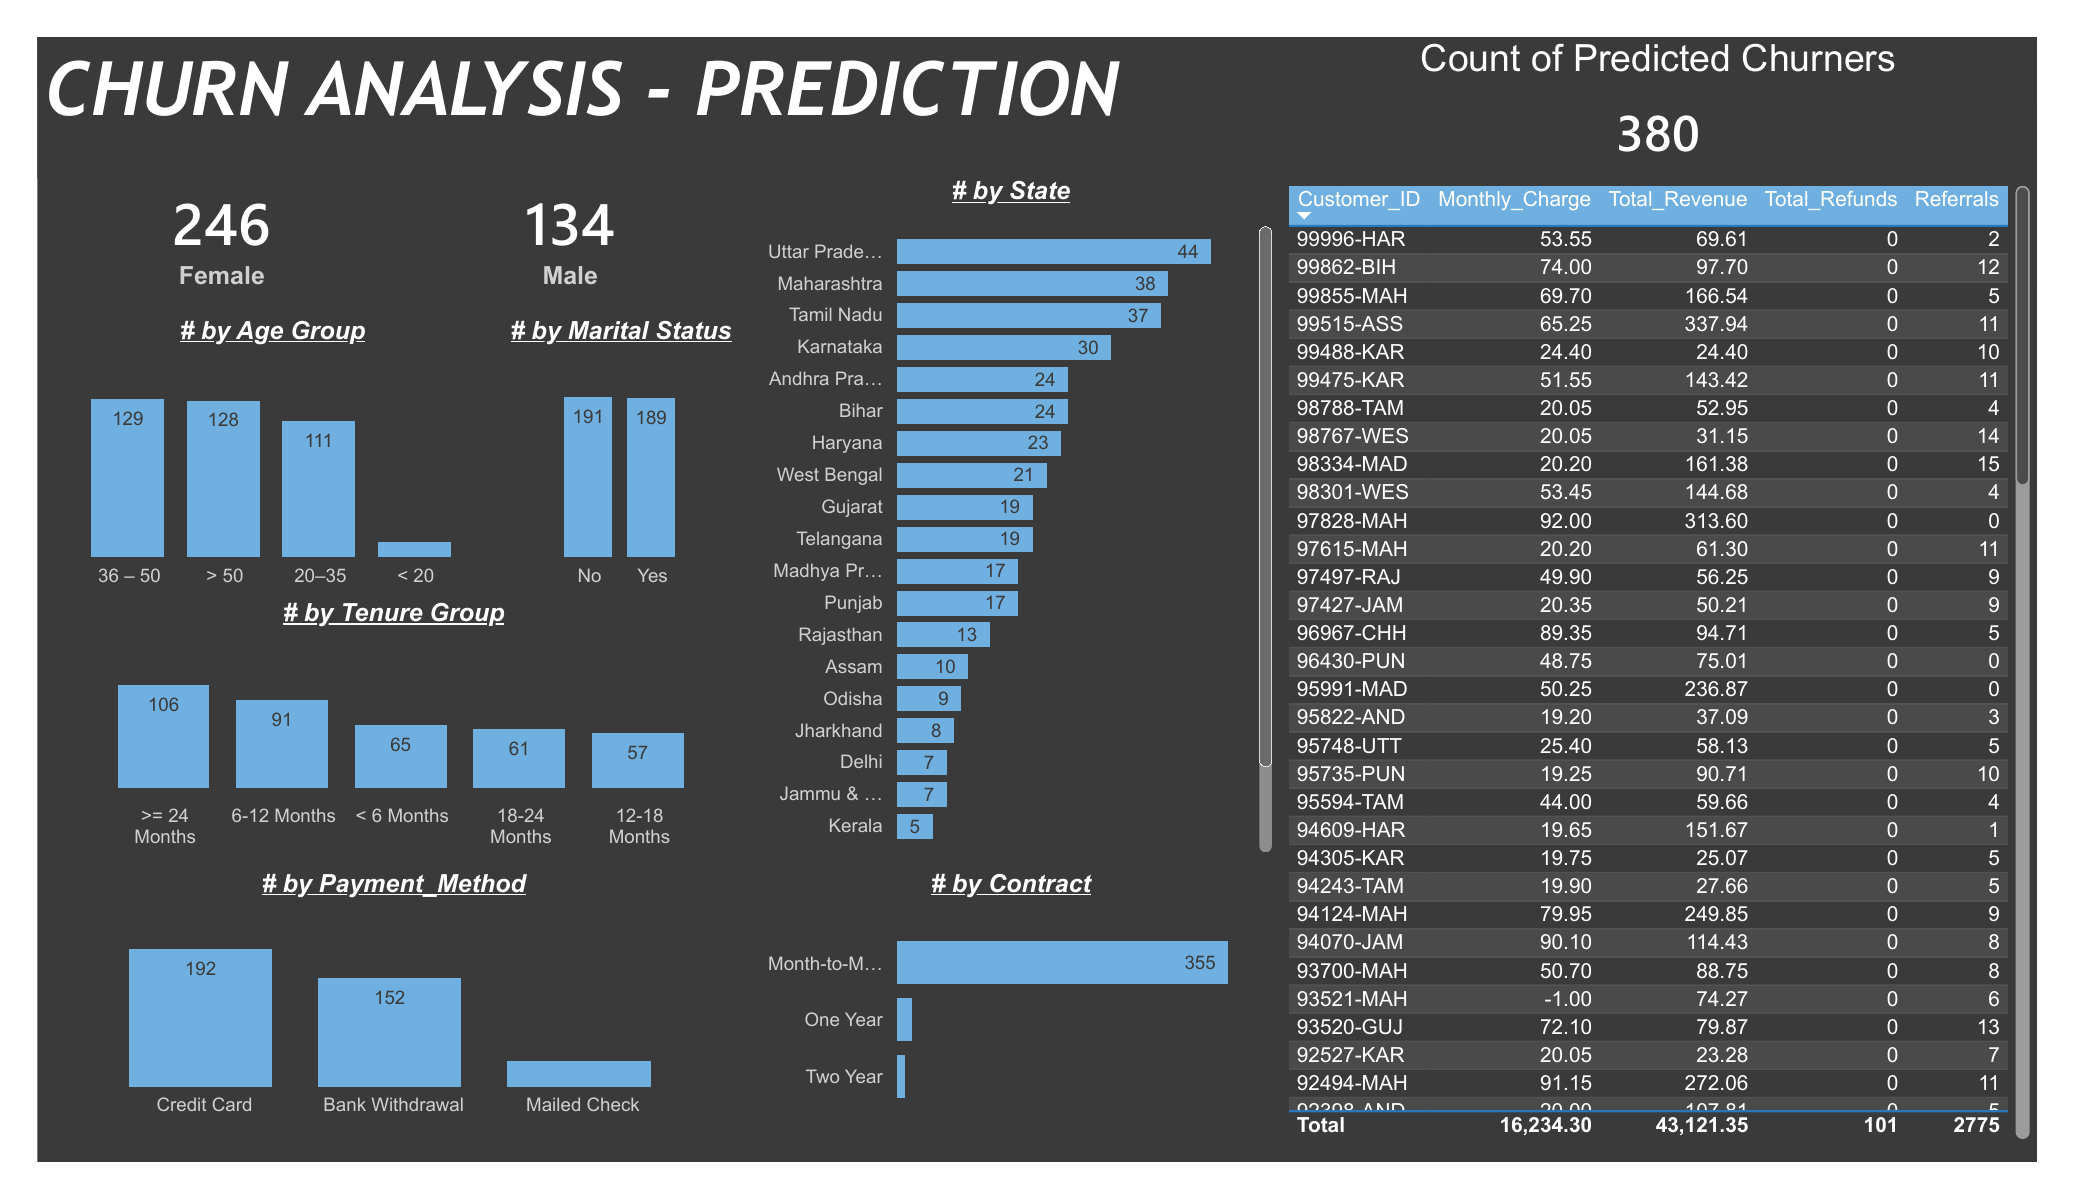

The dashboard page shown, as its layout file describes it:
{"tool":"powerbi","page":{"name":"Churn Prediction","canvas":[1280,720],"ordinal":1},"visuals":[{"type":"tableEx","fields":{"Values":["predicted data.Customer_ID","Sum(predicted data.Monthly_Charge)","Sum(predicted data.Total_Revenue)","Sum(predicted data.Total_Refunds)","Sum(predicted data.Number_of_Referrals)"]},"box":[795,90,485,620],"z":0},{"type":"cardVisual","title":"Count of Predicted Churners","fields":{"Data":["Measures 1.Count Predicted Churner"]},"box":[795,0,485,90],"z":1000},{"type":"cardVisual","fields":{"Data":["Measures 1.Count Predicted Churner"]},"box":[5,72.5,223.8,106.2],"z":2000},{"type":"cardVisual","fields":{"Data":["Measures 1.Count Predicted Churner"]},"box":[228.8,72.5,222.5,106.2],"z":3000},{"type":"clusteredColumnChart","fields":{"Category":["mapping_AgeGrp.Age Group "],"Y":["CountNonNull(predicted data.Customer_ID)"]},"box":[5,178.8,291.2,181.2],"z":4000},{"type":"clusteredColumnChart","fields":{"Y":["CountNonNull(predicted data.Customer_ID)"],"Category":["predicted data.Married"]},"box":[296.2,178.8,155,181.2],"z":5000},{"type":"clusteredColumnChart","fields":{"Y":["CountNonNull(predicted data.Customer_ID)"],"Category":["mapping_TenureGrp.Tenure Group "]},"box":[5,360,446.2,166.2],"z":6000},{"type":"clusteredColumnChart","fields":{"Y":["CountNonNull(predicted data.Customer_ID)"],"Category":["predicted data.Payment_Method"]},"box":[5,532.5,446.2,166.2],"z":7000},{"type":"barChart","fields":{"Y":["CountNonNull(predicted data.Customer_ID)"],"Category":["predicted data.Contract"]},"box":[451.2,532.5,343.8,166.2],"z":8000},{"type":"barChart","fields":{"Y":["CountNonNull(predicted data.Customer_ID)"],"Category":["predicted data.State"]},"box":[451.2,90,343.8,436.2],"z":9000},{"type":"textbox","box":[0,0,795,90],"z":10000}]}

Visuals, with their boxes on the page's 1280x720 design canvas (x1, y1, x2, y2). These are canvas units, not pixel positions in the 2075x1200 screenshot, which may show the page scaled, cropped or inside an application window:
tableEx - predicted data.Customer_ID x Sum(predicted data.Monthly_Charge): Rect(795, 90, 1280, 710)
"Count of Predicted Churners" cardVisual: Rect(795, 0, 1280, 90)
cardVisual - Measures 1.Count Predicted Churner: Rect(5, 72, 229, 179)
cardVisual - Measures 1.Count Predicted Churner: Rect(229, 72, 451, 179)
clusteredColumnChart - mapping_AgeGrp.Age Group  x CountNonNull(predicted data.Customer_ID): Rect(5, 179, 296, 360)
clusteredColumnChart - CountNonNull(predicted data.Customer_ID) x predicted data.Married: Rect(296, 179, 451, 360)
clusteredColumnChart - CountNonNull(predicted data.Customer_ID) x mapping_TenureGrp.Tenure Group : Rect(5, 360, 451, 526)
clusteredColumnChart - CountNonNull(predicted data.Customer_ID) x predicted data.Payment_Method: Rect(5, 532, 451, 699)
barChart - CountNonNull(predicted data.Customer_ID) x predicted data.Contract: Rect(451, 532, 795, 699)
barChart - CountNonNull(predicted data.Customer_ID) x predicted data.State: Rect(451, 90, 795, 526)
textbox: Rect(0, 0, 795, 90)
